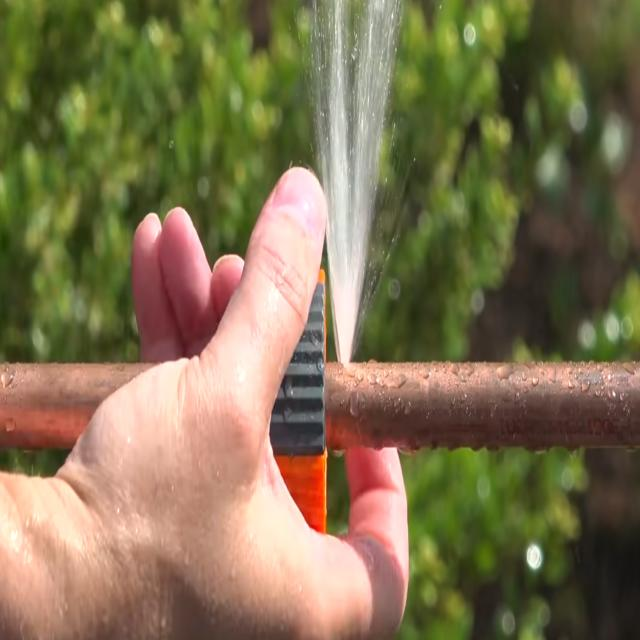leak: (311, 0, 400, 364)
